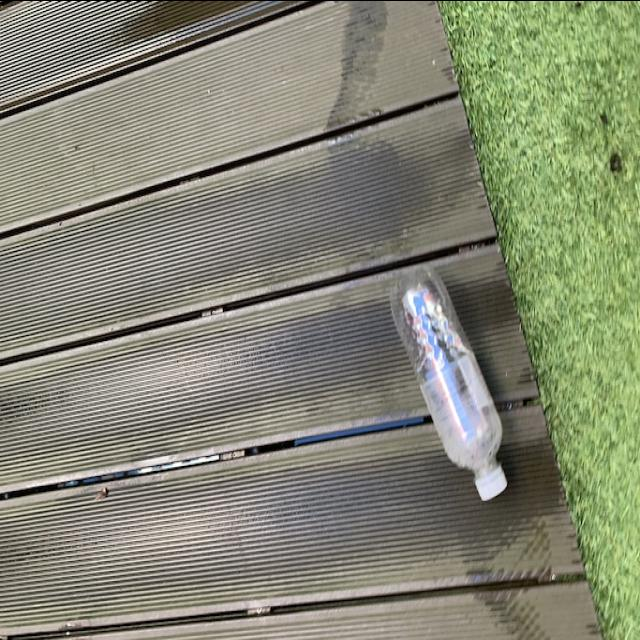PET: (387, 258, 513, 502)
